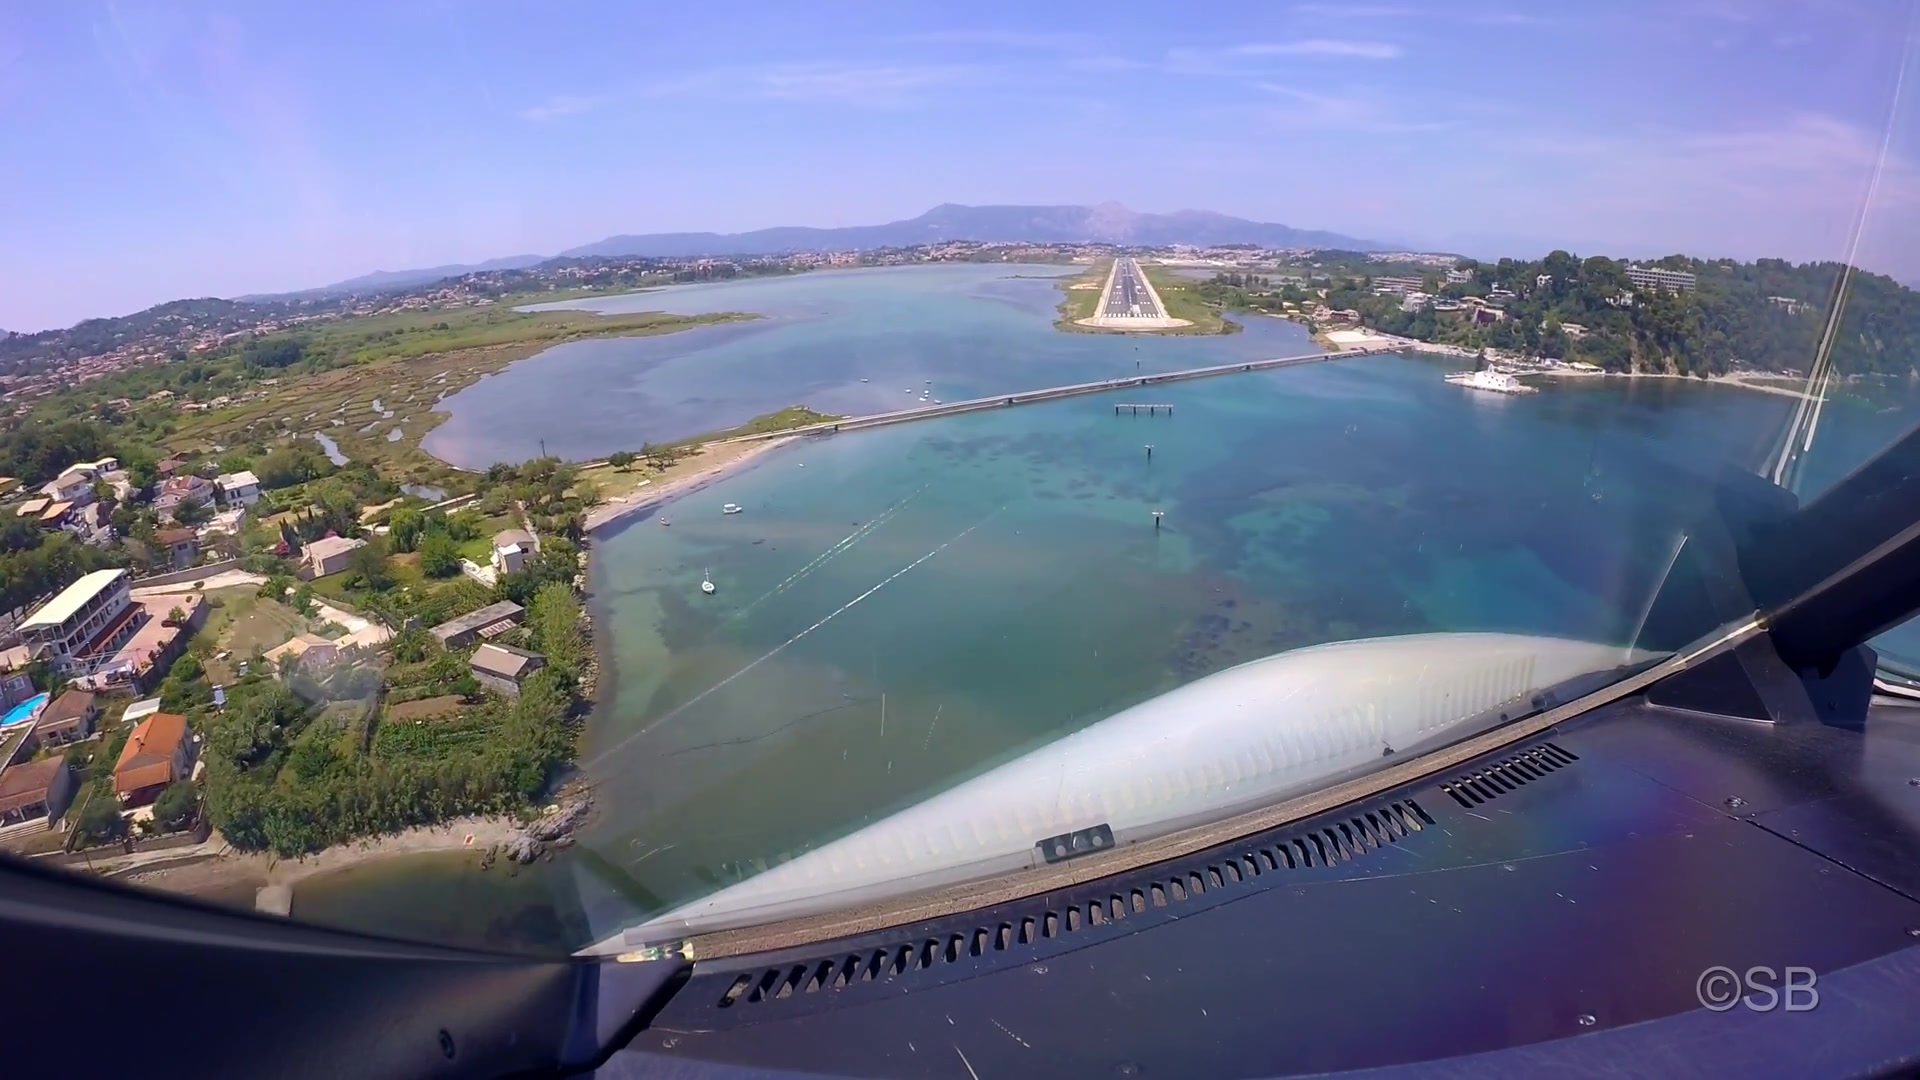entrance: (1104, 313, 1160, 319)
runway: (1102, 255, 1163, 324)
